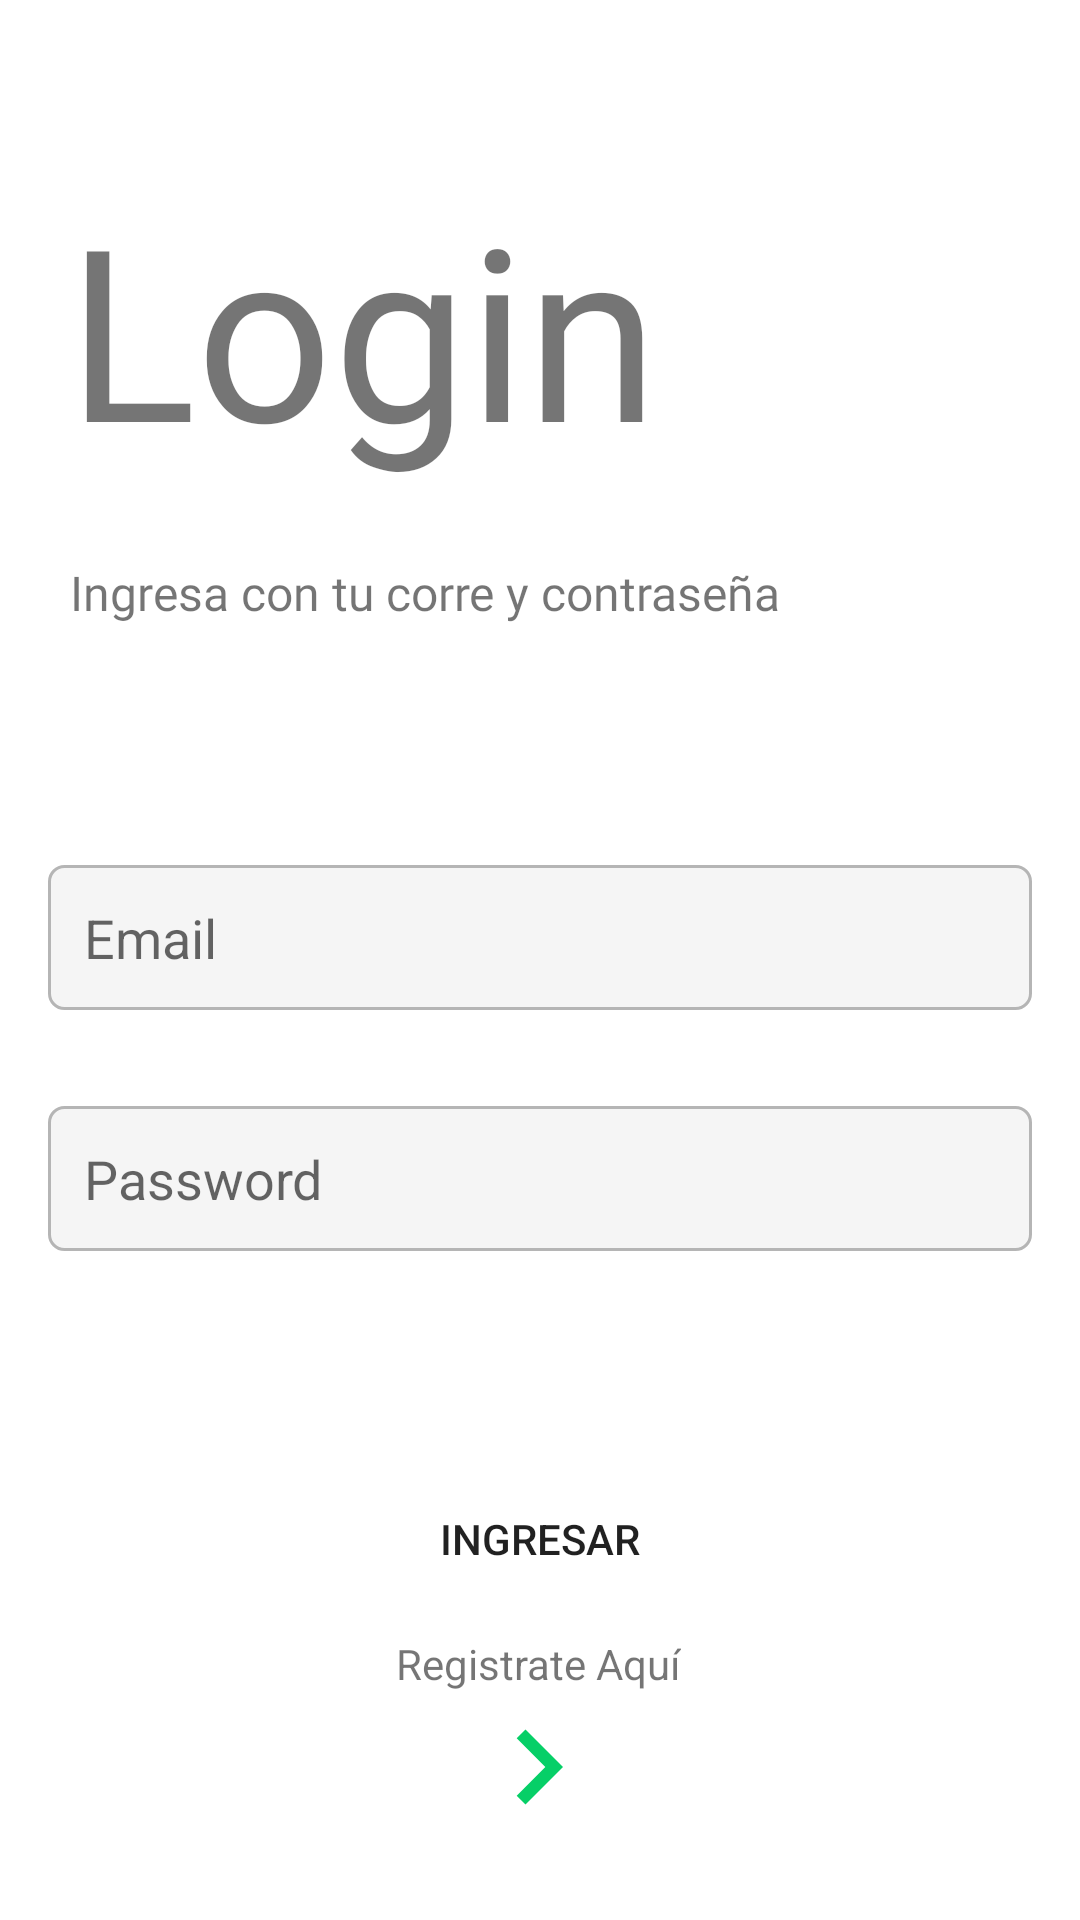

Named icons in this screenshot (1080x1920) and their bounding boxes, (x1, y1, x2, y2):
arrow right: (517, 1729, 563, 1805)
